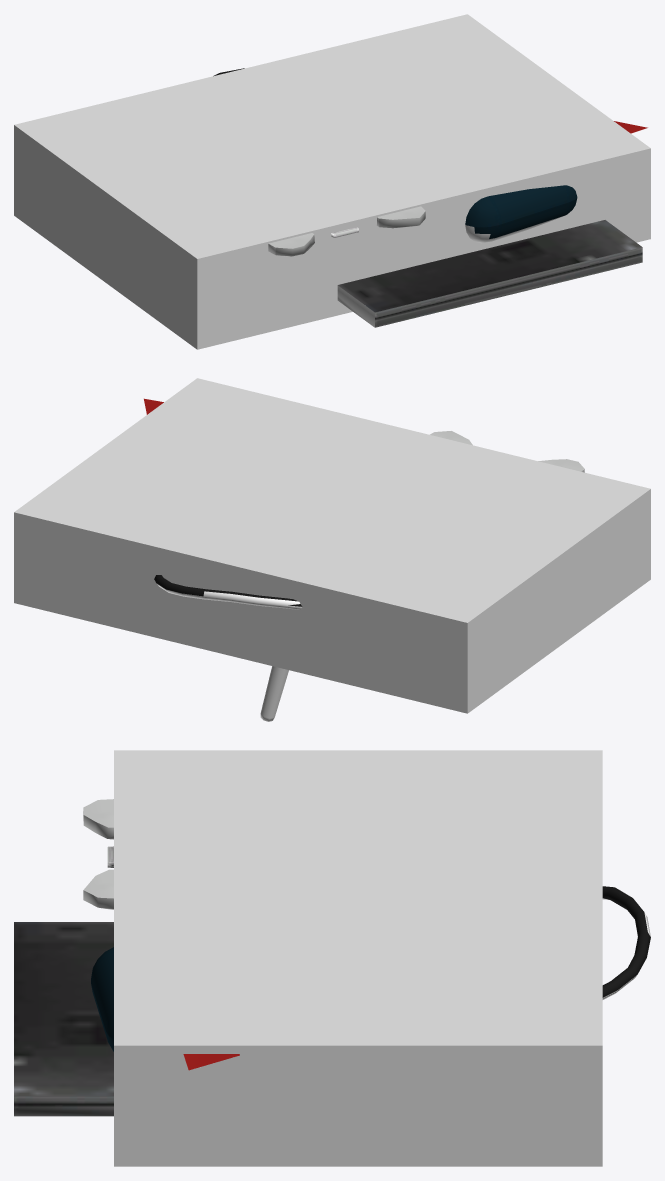
File: blade_pocket_emp.glb
3 renders of one model, top to bottom at view 1: azimuth 30°, elevation 25°; view 2: azimuth 150°, elevation 25°; view 3: azimuth 270°, elevation 25°, orthographic. The views are drawn at different scales.
Parts seen in each view (by area): view 1: c_box, g_screen, g_sticky, g_outline_lod0; view 2: c_box, g_outline_lod0, g_cable, g_sticky; view 3: c_box, g_screen, g_sticky, g_cable.
Boxes of the visible parts, bbox=[...] form: c_box: bbox=[14, 14, 650, 349]; g_screen: bbox=[338, 185, 642, 327]; g_sticky: bbox=[268, 206, 425, 256]; g_outline_lod0: bbox=[268, 215, 565, 327]; c_box: bbox=[14, 378, 650, 713]; g_outline_lod0: bbox=[157, 469, 584, 721]; g_cable: bbox=[154, 575, 302, 606]; g_sticky: bbox=[430, 431, 584, 471]; c_box: bbox=[114, 750, 602, 1166]; g_screen: bbox=[14, 922, 113, 1116]; g_sticky: bbox=[83, 799, 113, 908]; g_cable: bbox=[602, 886, 650, 997].
Size of what is drawn, in the model's own units: 0.3797 by 0.1307 by 0.3279.
Materials: 6 (4 with a texture image).
